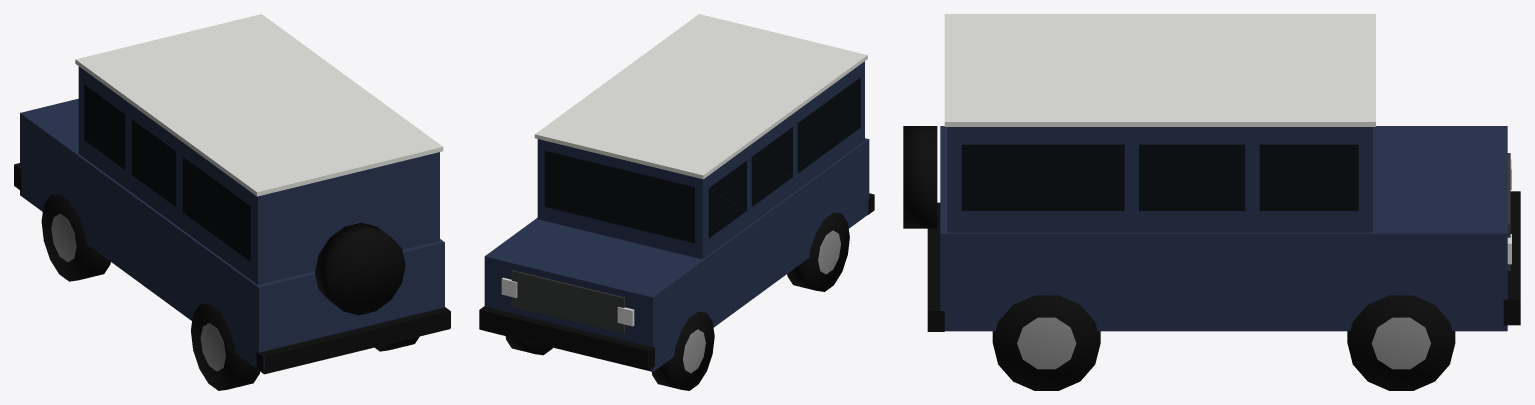
File: vehicle.car.farm_4x4_2.glb
The picture shows the model from 3 angles, left to right: view 1: azimuth 30°, elevation 25°; view 2: azimuth 150°, elevation 25°; view 3: azimuth 270°, elevation 25°; orthographic projection. The views are drawn at different scales.
Visible parts, largest first — view 1: main__enamel_235, main__enamel_ddd, main__rubber, main__glass_dark, main__paint_999; view 2: main__enamel_235, main__enamel_ddd, main__glass_dark, main__rubber, main__paint_333, main__paint_999, main__paint_eed; view 3: main__enamel_235, main__enamel_ddd, main__glass_dark, main__rubber, main__paint_999.
Part boxes in pixels (<box>): main__enamel_235: <box>20,66,444,368</box>; main__enamel_ddd: <box>75,14,443,196</box>; main__rubber: <box>14,163,450,390</box>; main__glass_dark: <box>84,84,250,261</box>; main__paint_999: <box>51,213,225,371</box>; main__enamel_235: <box>484,61,869,371</box>; main__enamel_ddd: <box>534,14,867,179</box>; main__glass_dark: <box>544,77,860,243</box>; main__rubber: <box>479,193,874,390</box>; main__paint_333: <box>511,270,624,333</box>; main__paint_999: <box>683,230,840,373</box>; main__paint_eed: <box>501,277,634,326</box>; main__enamel_235: <box>940,126,1507,331</box>; main__enamel_ddd: <box>944,14,1375,126</box>; main__glass_dark: <box>961,144,1358,210</box>; main__rubber: <box>903,126,1520,390</box>; main__paint_999: <box>1017,317,1430,369</box>.
Size of the model in its own units: 1.82 by 2.09 by 4.35.
